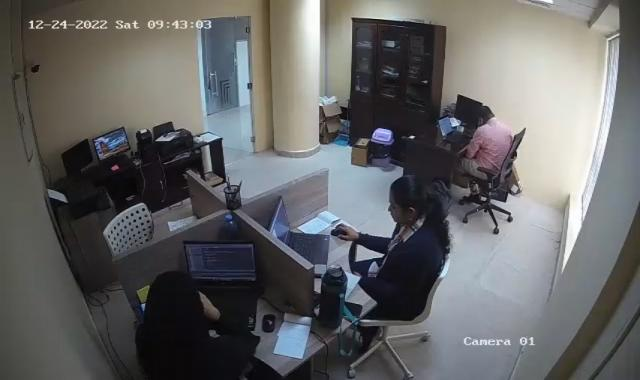no_hairnet: (148, 275, 198, 336), (388, 176, 428, 228), (475, 107, 495, 127)
